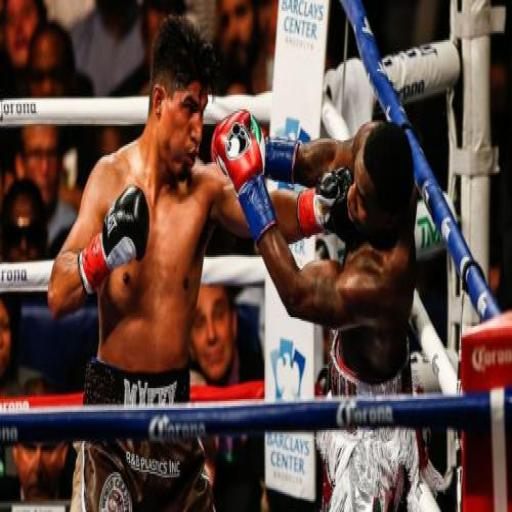boxing: (46, 13, 352, 508)
